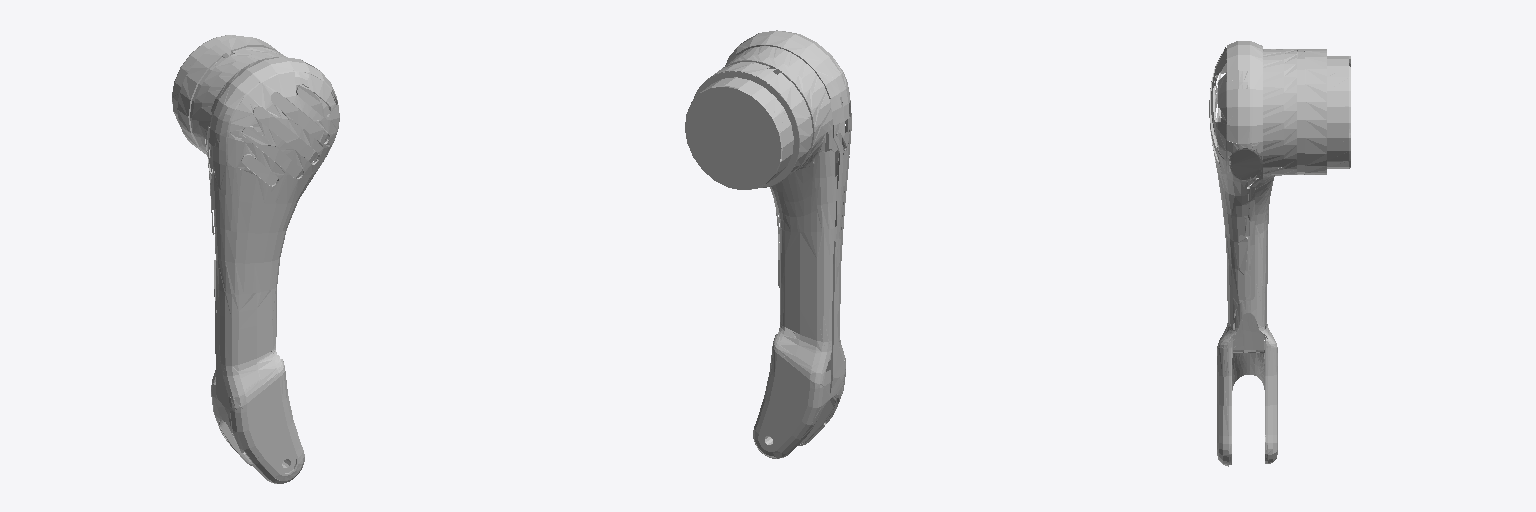
Rendered from FR_thigh.obj.
The picture shows the model from 3 angles: view 1: azimuth 30°, elevation 25°; view 2: azimuth 150°, elevation 25°; view 3: azimuth 270°, elevation 25°; orthographic projection.
Parts seen in each view (by area): view 1: object23_049-mesh; view 2: object23_049-mesh; view 3: object23_049-mesh.
Boxes of the visible parts, x1=… form: object23_049-mesh: x1=172, y1=35, x2=339, y2=483; object23_049-mesh: x1=685, y1=30, x2=851, y2=458; object23_049-mesh: x1=1209, y1=41, x2=1350, y2=466.
Bounding box in the file's own units: 0.1385 × 0.4434 × 0.1364.